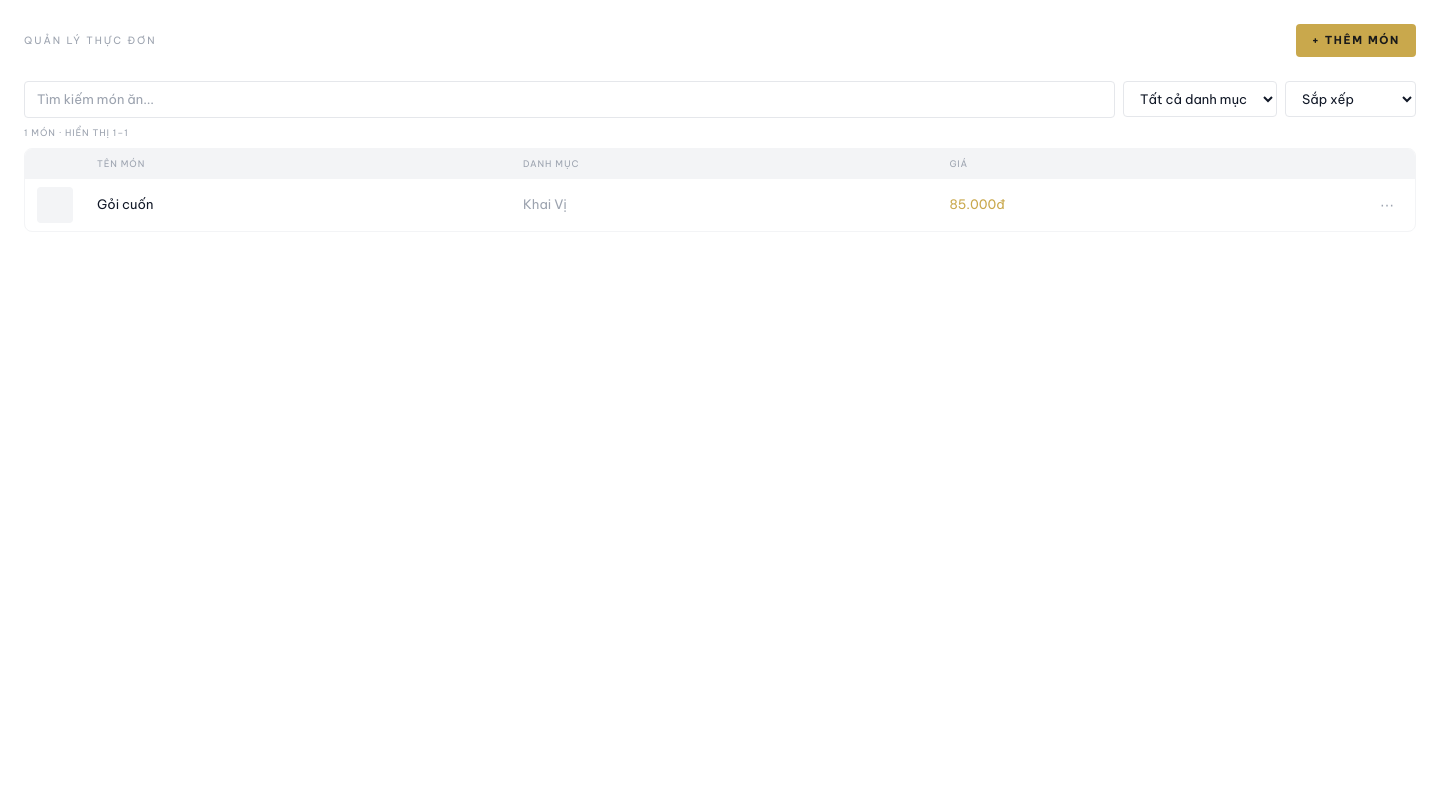
Scenario: AdminMenuPage › opens add modal when THÊM MÓN is clicked
Click the button "+ THÊM MÓN".
click(1356, 40)  # box 1296,24 -> 1416,56
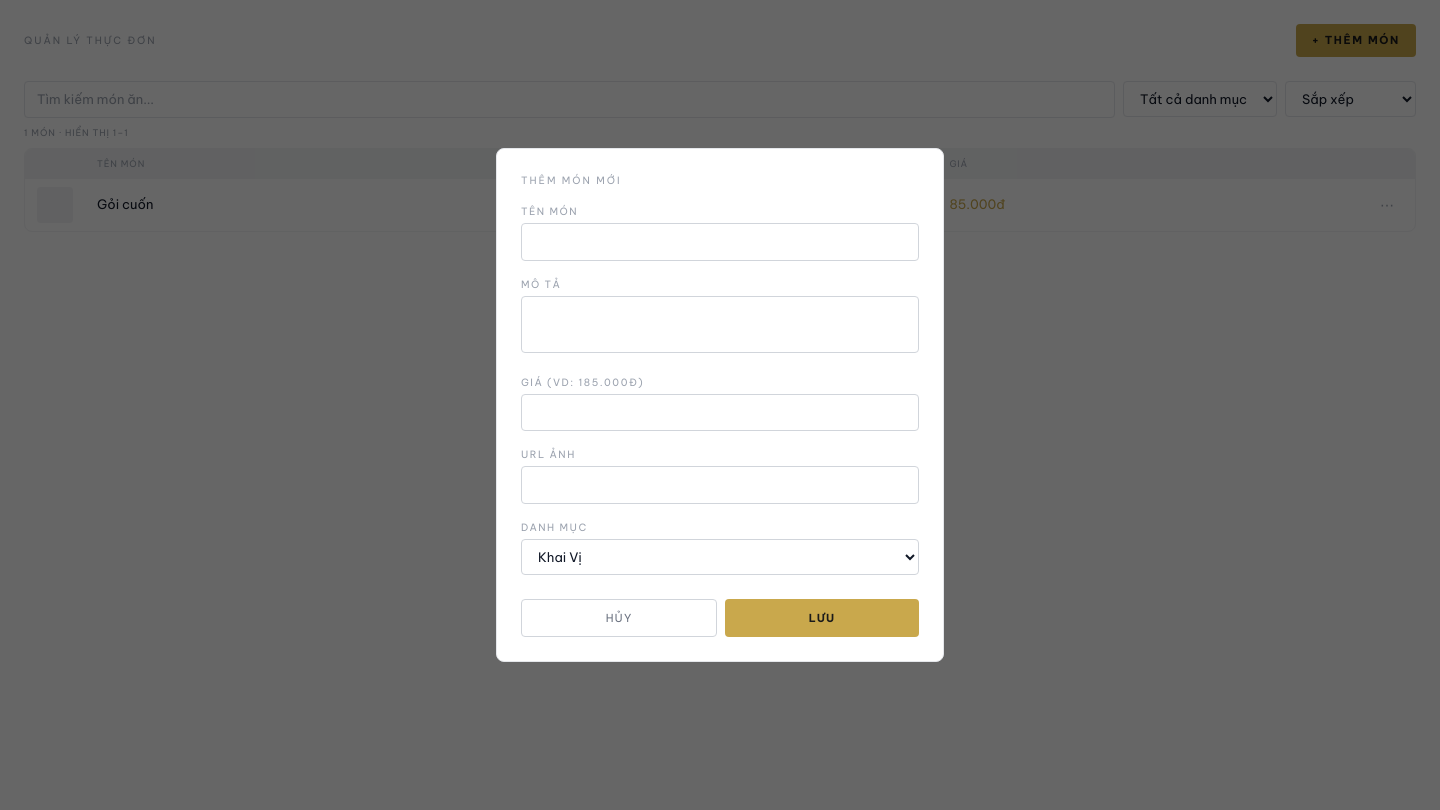
Expected: the text "Thêm món mới" is shown, 521,174 -> 622,187
